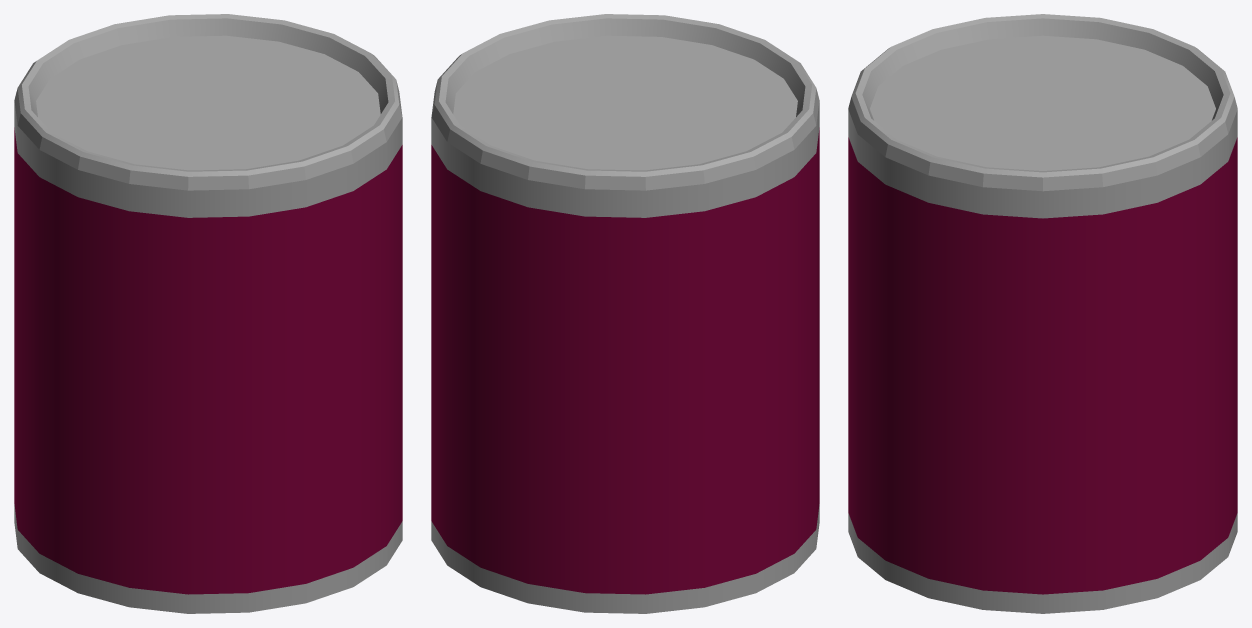
Rendered from SM_can.fbx.
The picture shows the model from 3 angles, left to right: view 1: azimuth 30°, elevation 25°; view 2: azimuth 150°, elevation 25°; view 3: azimuth 270°, elevation 25°; orthographic projection.
Visible parts, largest first — view 1: pCylinder2; view 2: pCylinder2; view 3: pCylinder2.
Part boxes in pixels (x1,y1,x2,y2): pCylinder2: [14, 14, 402, 613]; pCylinder2: [431, 14, 819, 613]; pCylinder2: [848, 14, 1237, 613].
Size of the model in its own units: 0.6874 by 0.8536 by 0.6874.
